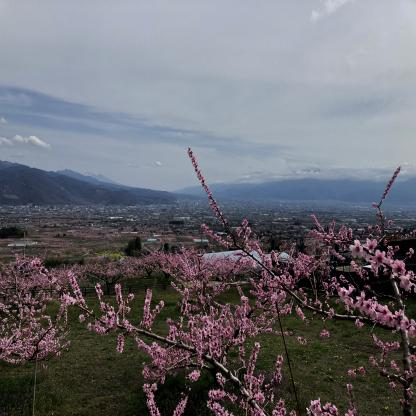Momo: (0, 143, 349, 416), (324, 168, 416, 416), (0, 254, 76, 286), (70, 254, 148, 282), (148, 250, 220, 276)
